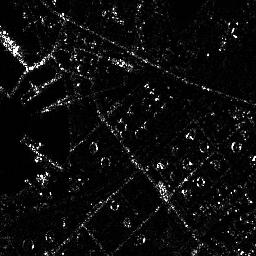ship: (1, 27, 27, 61)
